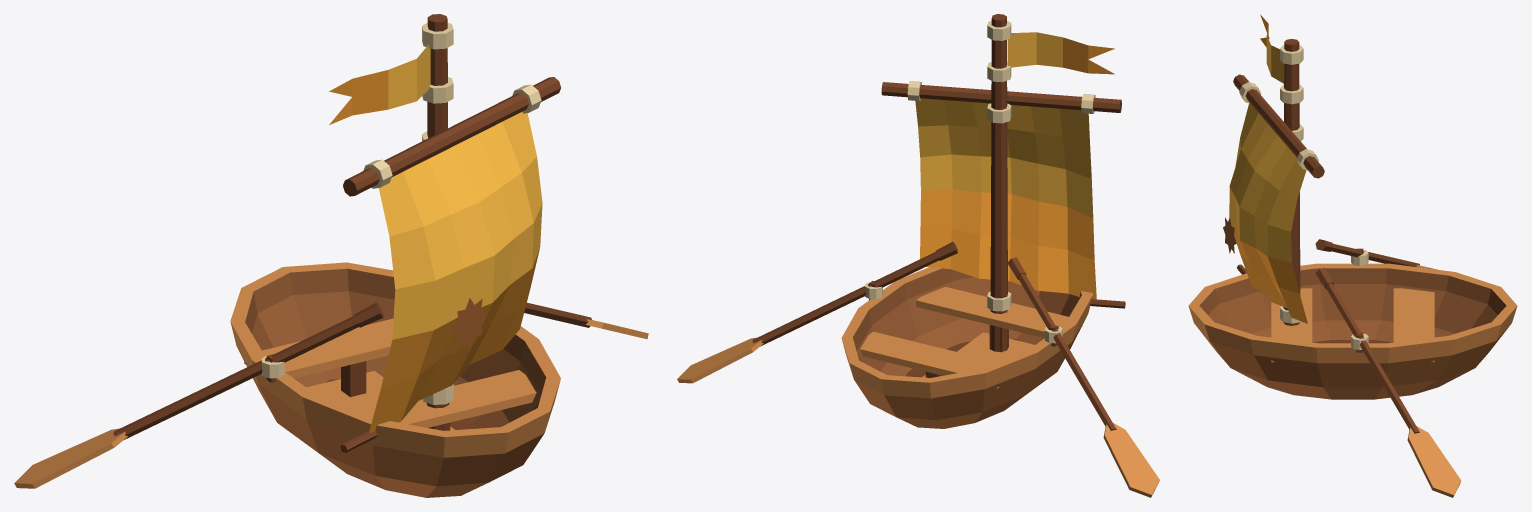
File: DeckhandDinghy.fbx
3 renders of one model, left to right at view 1: azimuth 30°, elevation 25°; view 2: azimuth 150°, elevation 25°; view 3: azimuth 270°, elevation 25°, orthographic. The views are drawn at different scales.
Visible parts, largest first — view 1: Hull, Sail, Mast, Oar_R, Flag, Oar_L; view 2: Sail, Hull, Mast, Oar_R, Oar_L, Flag; view 3: Hull, Sail, Mast, Oar_L, Oar_R, Flag.
Boxes of the visible parts, x1,y1,x2,y2 form: Hull: (230, 262, 560, 497); Sail: (340, 112, 542, 452); Mast: (343, 14, 561, 430); Oar_R: (14, 302, 383, 488); Flag: (329, 44, 430, 124); Oar_L: (524, 302, 648, 339); Sail: (915, 98, 1125, 308); Hull: (841, 267, 1092, 428); Mast: (881, 14, 1121, 351); Oar_R: (1007, 257, 1159, 497); Oar_L: (677, 241, 957, 383); Flag: (1007, 32, 1114, 74); Hull: (1188, 248, 1517, 399); Sail: (1223, 103, 1307, 323); Mast: (1233, 39, 1324, 325); Oar_L: (1315, 267, 1461, 497); Oar_R: (1315, 239, 1436, 269); Flag: (1260, 14, 1284, 83).
Bounding box in the file's own units: 3.86 × 2.81 × 2.42.
1 material, 1 textured.
